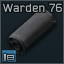AR-10 SureFire Warden 7.62x51 blast regulator: (0, 0, 64, 64)
